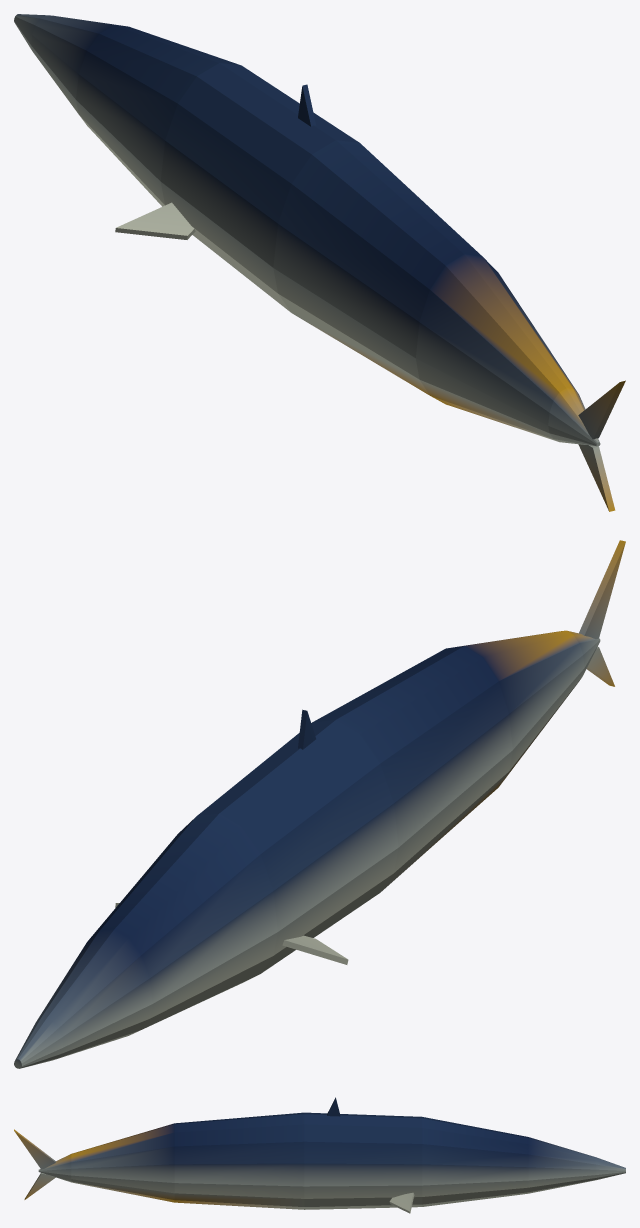
File: bluefin.glb
The picture shows the model from 3 angles, top to bottom: view 1: azimuth 30°, elevation 25°; view 2: azimuth 150°, elevation 25°; view 3: azimuth 270°, elevation 25°; orthographic projection. The views are drawn at different scales.
Parts seen in each view (by area): view 1: bluefin_male; view 2: bluefin_male; view 3: bluefin_male.
Part boxes in pixels (x1,y1,x2,y2): bluefin_male: (14,14,625,511); bluefin_male: (14,540,625,1068); bluefin_male: (14,1097,625,1213).
Size of the model in its own units: 2.3 by 2.04 by 10.37.
